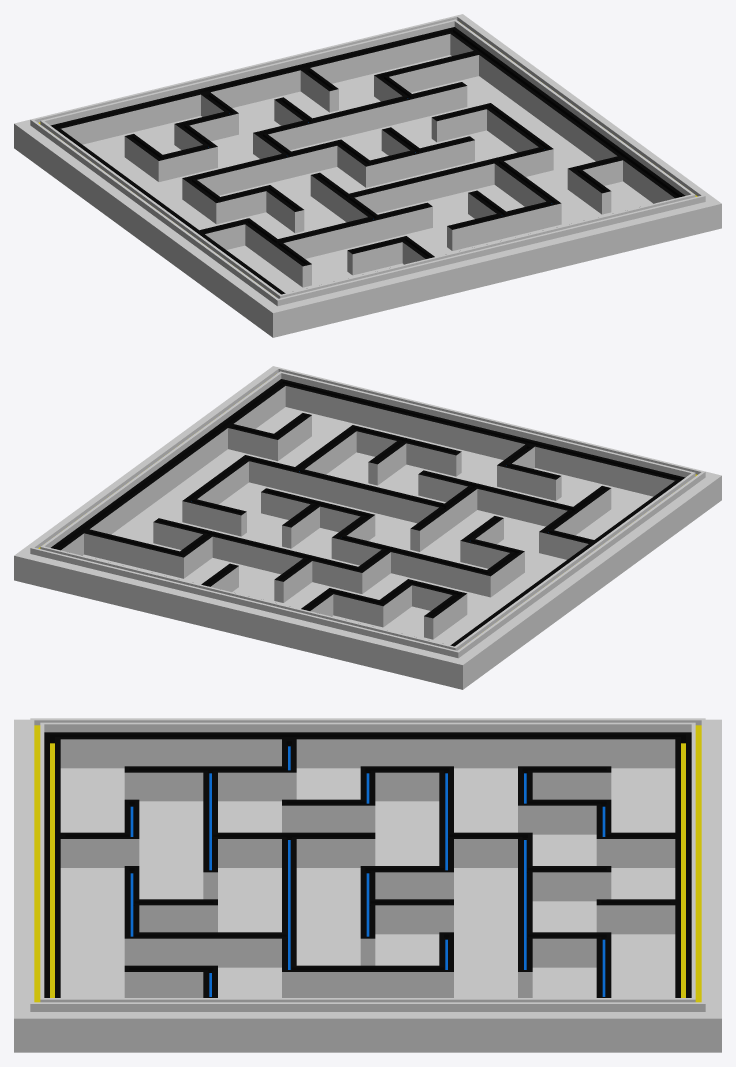
Rendered from Level3MapFinal.fbx.
The picture shows the model from 3 angles, top to bottom: view 1: azimuth 30°, elevation 25°; view 2: azimuth 150°, elevation 25°; view 3: azimuth 270°, elevation 25°; orthographic projection. The views are drawn at different scales.
Visible parts, largest first — view 1: Plane.002; view 2: Plane.002; view 3: Plane.002.
Boxes of the visible parts, x1,y1,x2,y2 form: Plane.002: (14,14,721,337); Plane.002: (14,366,721,689); Plane.002: (14,718,721,1052).
Size of the model in its own units: 2216 by 144 by 2216.
